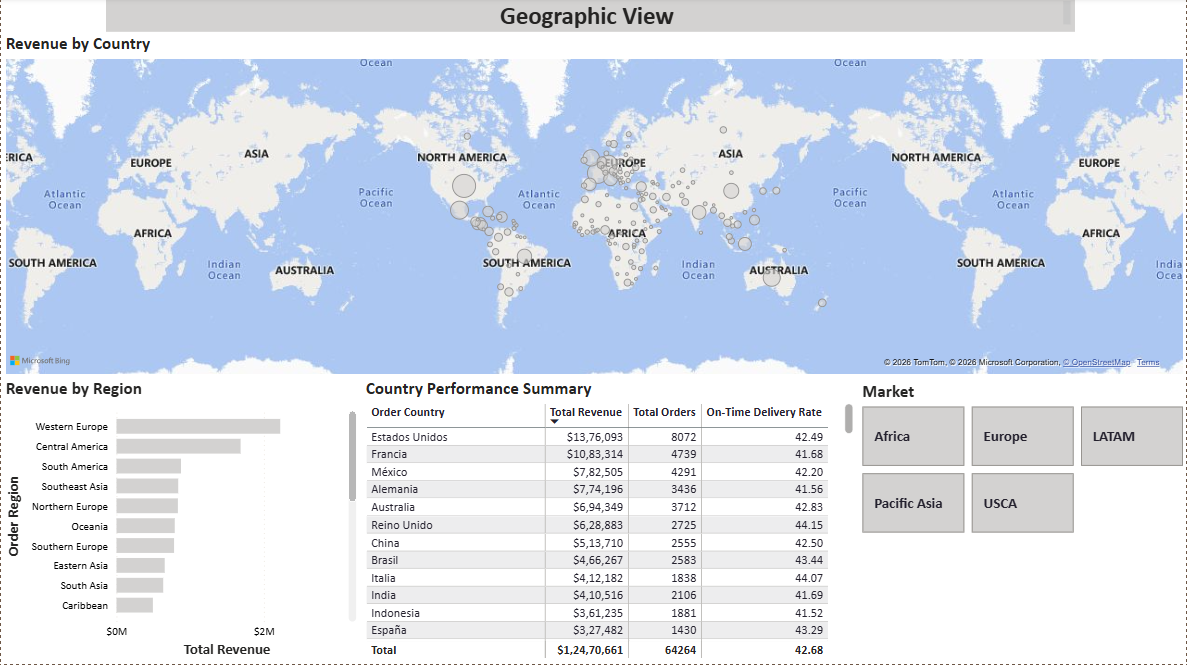

This screenshot's page, from the dashboard's own definition file:
{"tool":"powerbi","page":{"name":"Geographic View","canvas":[1280,720],"ordinal":3},"visuals":[{"type":"textbox","box":[113.3,0,1046,38.9],"z":0},{"type":"map","title":"Revenue by Country","fields":{"Category":["Orders.Order Country"],"Size":["DAX.Total Revenue"]},"box":[0,38.9,1280.8,374],"z":1000},{"type":"clusteredBarChart","title":"Revenue by Region","fields":{"Category":["Orders.Order Region"],"Y":["DAX.Total Revenue"]},"box":[0,412,388,308],"z":2000},{"type":"tableEx","title":"Country Performance Summary","fields":{"Values":["Orders.Order Country","DAX.Total Revenue","Calendar.Total Orders","Calendar.On-Time Delivery Rate"]},"box":[388,412,536,308],"z":3000},{"type":"advancedSlicerVisual","fields":{"Values":["Orders.Market"]},"box":[924.6,414.5,356.2,170],"z":4000}]}

Visuals, with their boxes in screenshot pixels (x1, y1, x2, y2), scaled from the page's 1280x720 canvas onto the 1187x665 screenshot:
textbox: BBox(105, 0, 1075, 36)
"Revenue by Country" map: BBox(0, 36, 1186, 381)
"Revenue by Region" clusteredBarChart: BBox(0, 381, 360, 664)
"Country Performance Summary" tableEx: BBox(360, 381, 857, 664)
advancedSlicerVisual - Orders.Market: BBox(857, 383, 1186, 540)
